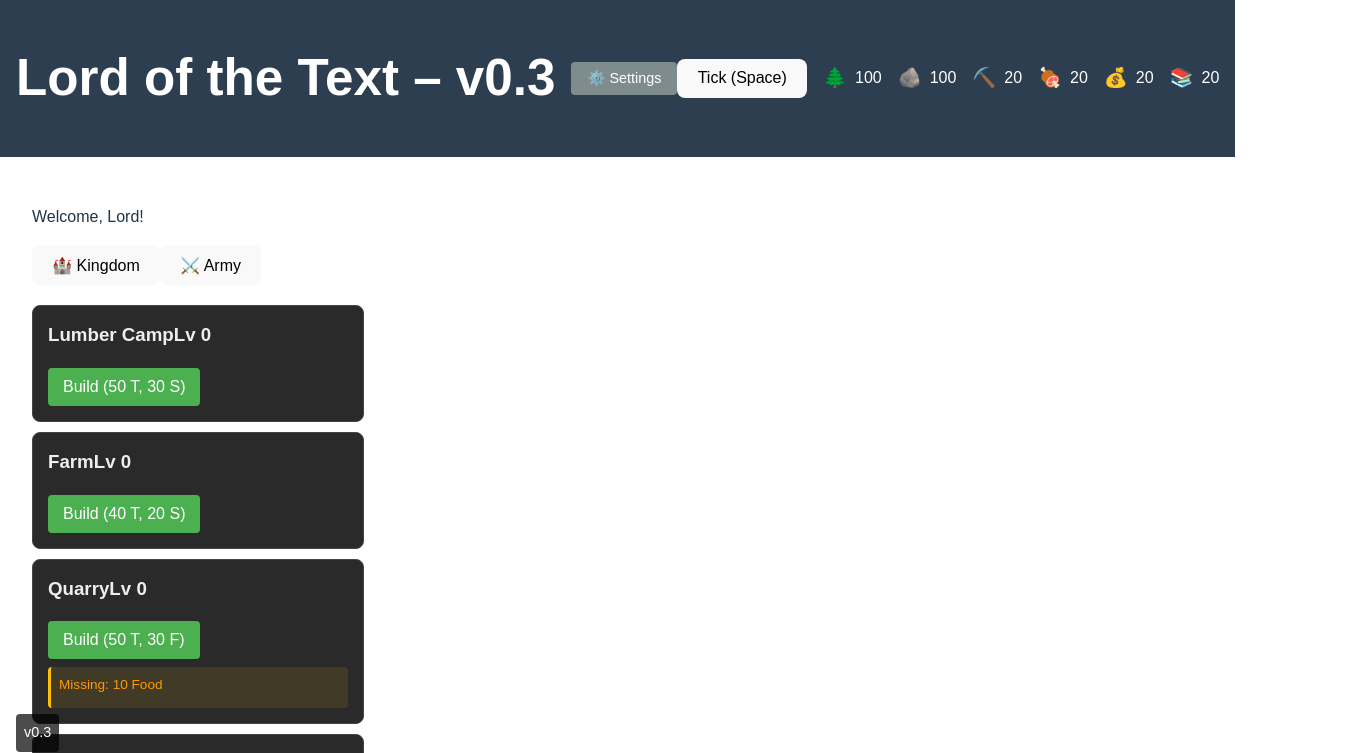
Integration Tests - End-to-End User Flows › should show settings modal with danger zone
The image size is (1366, 753).
Expected: the heading "Lord of the Text – v0.3" is shown, x1=16 y1=50 x2=556 y2=107
Click settings button
Click the button "⚙️ Settings": [624, 78] box x1=572 y1=62 x2=678 y2=95
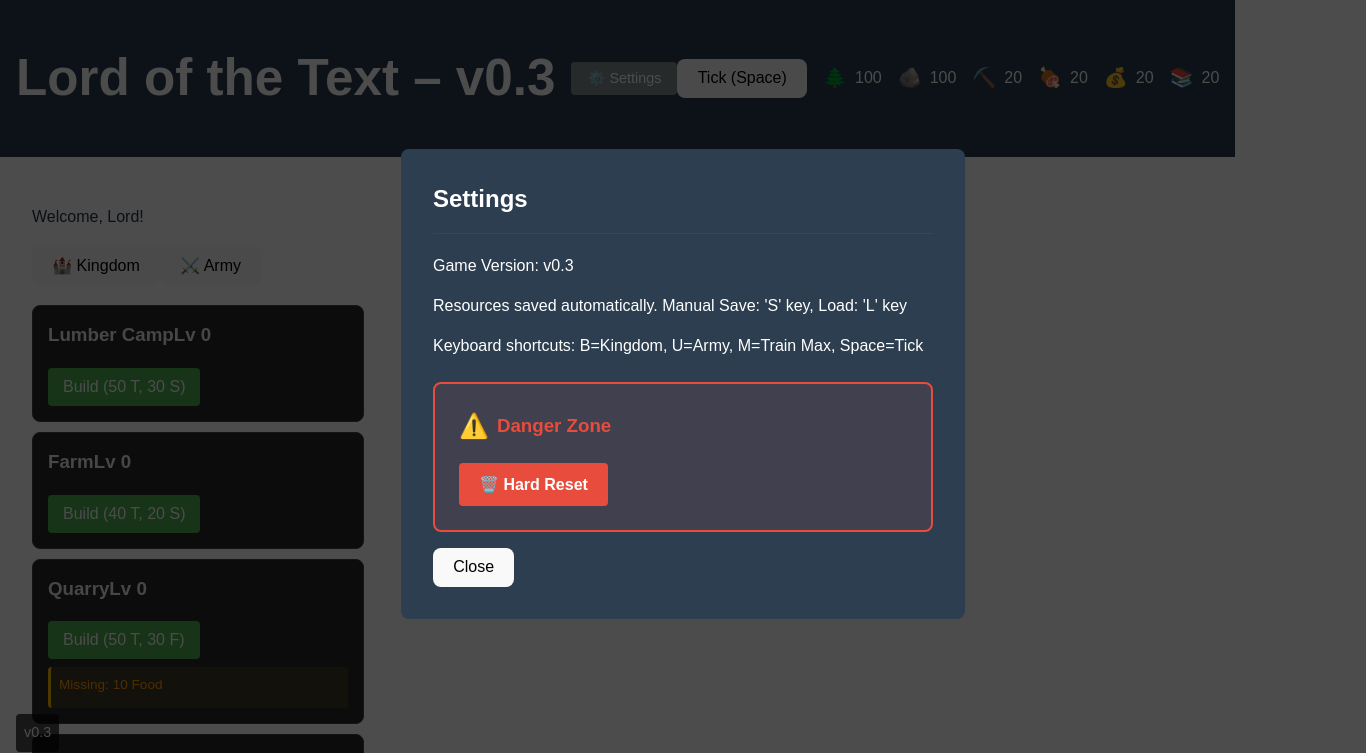
Expected: the heading "Settings" is shown, x1=433 y1=181 x2=933 y2=234
Expected: the heading "⚠️ Danger Zone" is shown, x1=459 y1=412 x2=611 y2=439
Expected: the button "🗑️ Hard Reset" is shown, x1=459 y1=463 x2=608 y2=506
